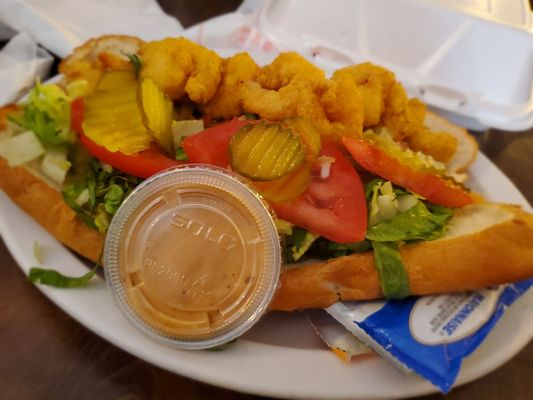sushi: (101, 165, 283, 351)
